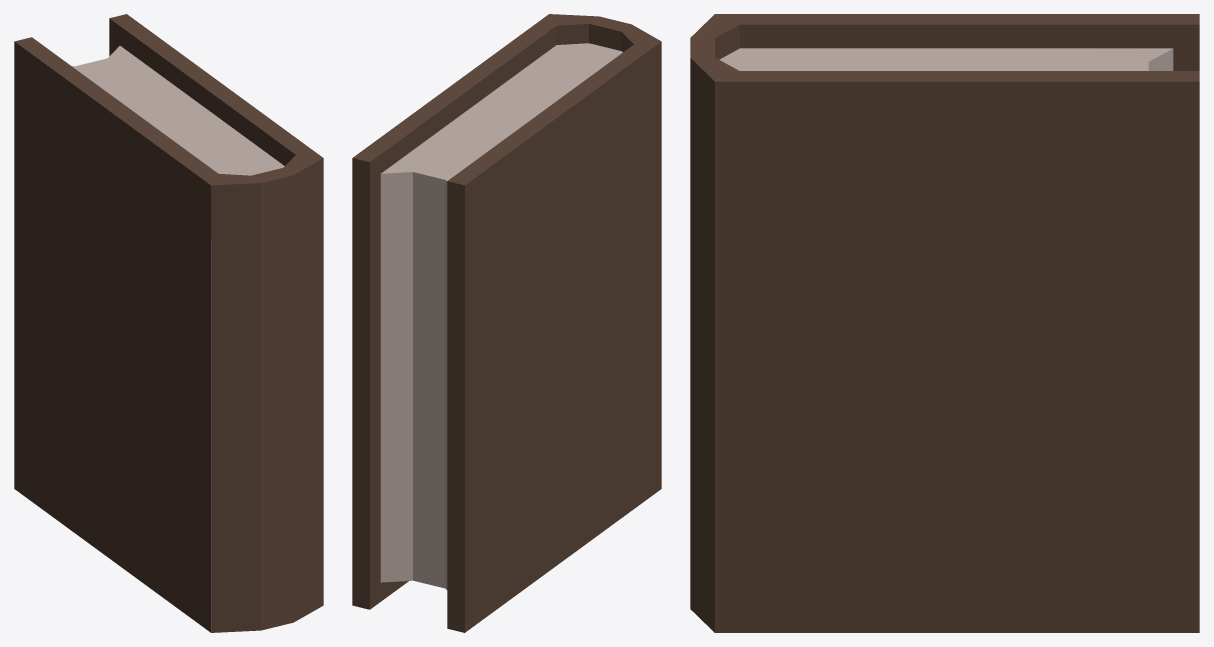
The model's file is livre01.FBX.
3 renders of one model, left to right at view 1: azimuth 30°, elevation 25°; view 2: azimuth 150°, elevation 25°; view 3: azimuth 270°, elevation 25°, orthographic. The views are drawn at different scales.
Visible parts, largest first — view 1: livre01; view 2: livre01; view 3: livre01.
Part boxes in pixels (left/top/right/bottom): livre01: left=14, top=14, right=323, bottom=632; livre01: left=352, top=14, right=661, bottom=632; livre01: left=690, top=14, right=1199, bottom=632.
Size of the model in its own units: 6.03 by 22.93 by 19.2.
1 material, 1 textured.
